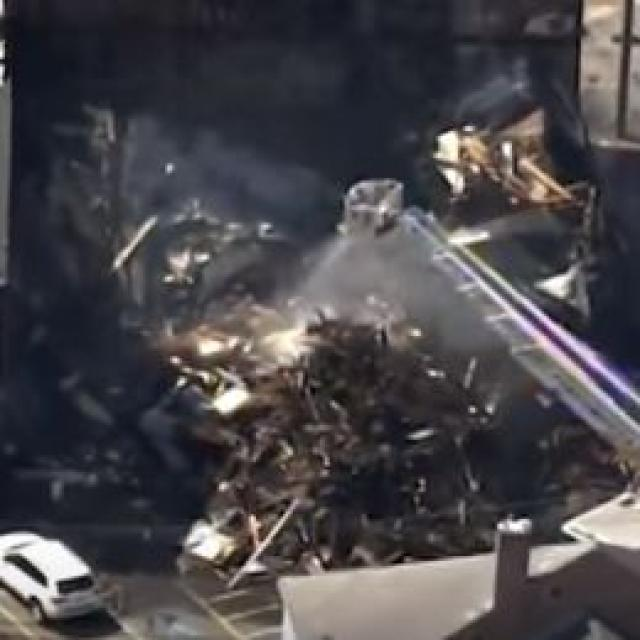collapsed_building: (19, 116, 526, 534)
